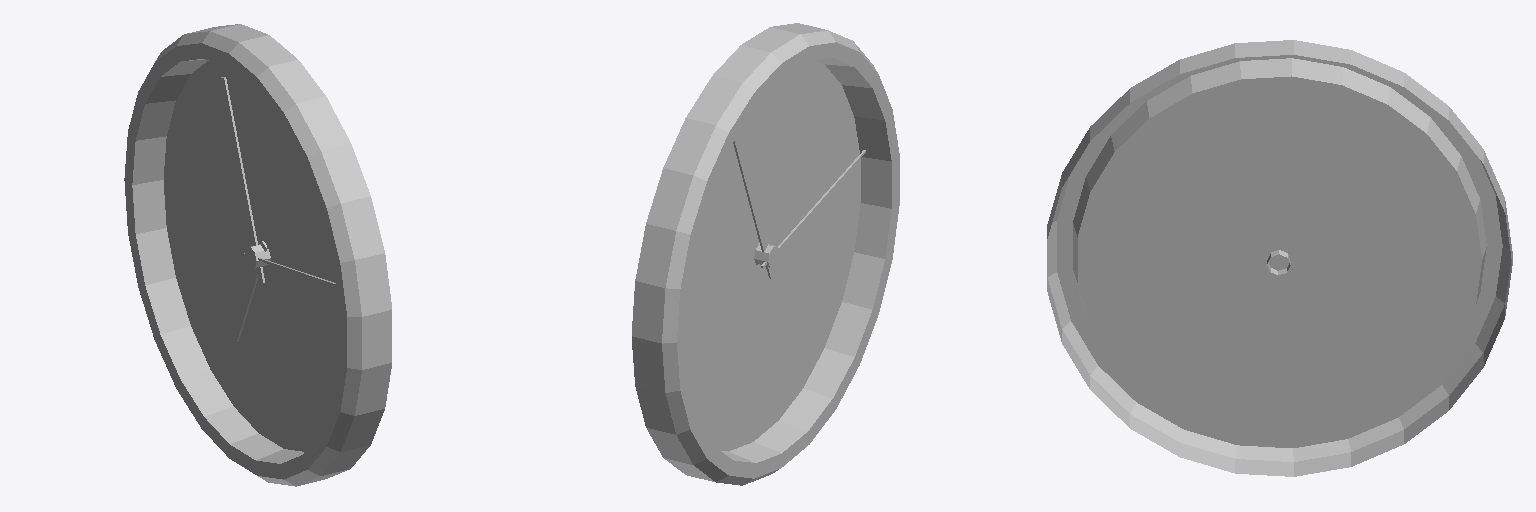
Rendered from Clock01.obj.
3 renders of one model, left to right at view 1: azimuth 30°, elevation 25°; view 2: azimuth 150°, elevation 25°; view 3: azimuth 270°, elevation 25°, orthographic.
Parts seen in each view (by area): view 1: Clock01_LOD0_Clock01.001; view 2: Clock01_LOD0_Clock01.001; view 3: Clock01_LOD0_Clock01.001.
Boxes of the visible parts, <box> form: Clock01_LOD0_Clock01.001: <box>124,24,391,486</box>; Clock01_LOD0_Clock01.001: <box>632,23,899,485</box>; Clock01_LOD0_Clock01.001: <box>1047,40,1512,476</box>.
Bounding box in the file's own units: 0.0444 × 0.4428 × 0.4419.